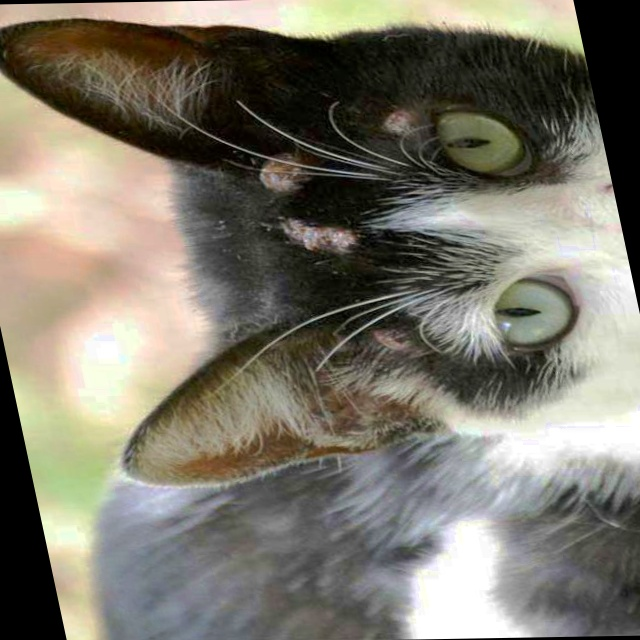lump_and_bump: (293, 222, 360, 254), (260, 157, 303, 184), (379, 107, 415, 133), (376, 330, 410, 350)
